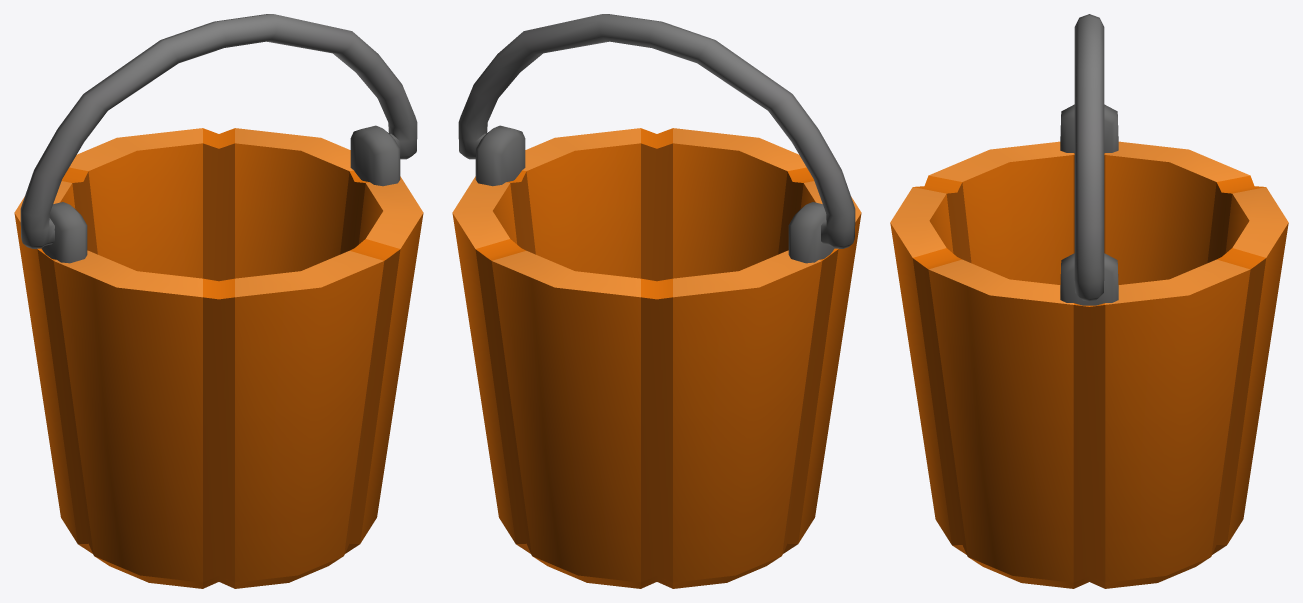
Rendered from Props_Bucket_01.glb.
3 views of the same model, side by side, from view 1: azimuth 30°, elevation 25°; view 2: azimuth 150°, elevation 25°; view 3: azimuth 270°, elevation 25° (orthographic). The views are drawn at different scales.
Visible parts, largest first — view 1: Props_Bucket_01; view 2: Props_Bucket_01; view 3: Props_Bucket_01.
Part boxes in pixels (x1=…): Props_Bucket_01: x1=14, y1=14, x2=423, y2=588; Props_Bucket_01: x1=452, y1=14, x2=861, y2=588; Props_Bucket_01: x1=890, y1=14, x2=1288, y2=588.
Size of the model in its own units: 0.6395 by 0.7918 by 0.5759.
1 material, 1 textured.
